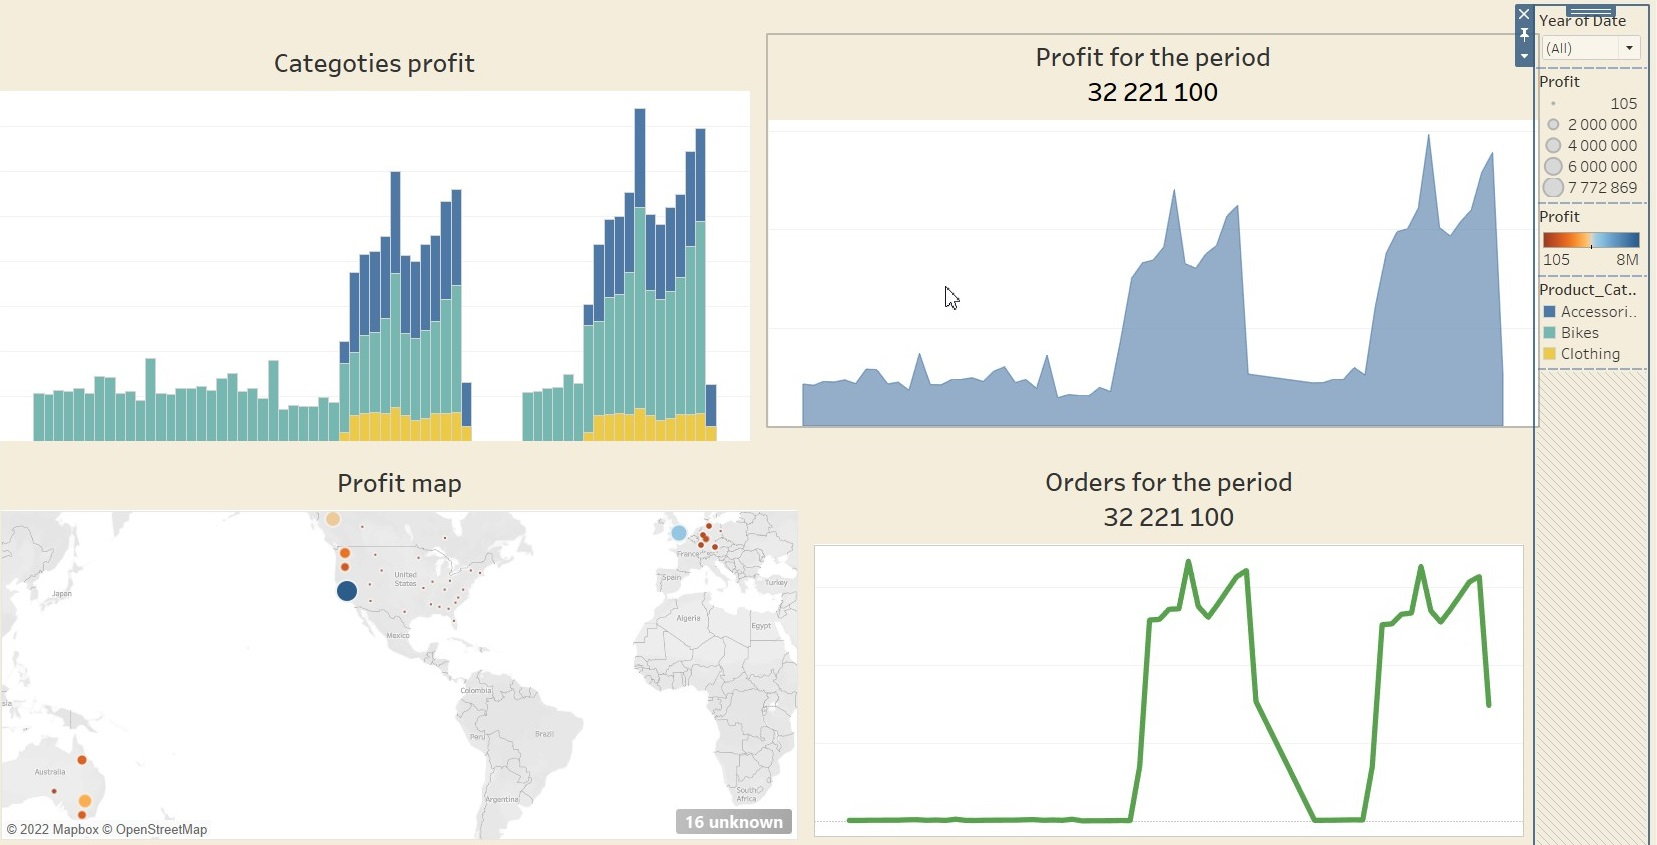

This screenshot's page, from the dashboard's own definition file:
{"tool":"tableau","page":{"name":"Final","canvas":[1000,1000],"units":"permille","ordinal":0},"visuals":[{"type":"filter","title":"Profit for the period","param":"[federated.1luun3l1xldv9518uf5wu11nxye0].[yr:Date:ok]","box":[927,9.3,68.2,70.9]},{"type":"worksheet","title":"Profit for the period","mark":"Area","rows":["Profit"],"cols":["Date"],"box":[464.1,43,464.7,454.1]},{"type":"worksheet","title":"Categoties profit","mark":"Bar","rows":["Profit"],"cols":["Date"],"box":[0,49.9,453.2,464.6]},{"type":"legend","title":"Map","param":"[federated.1luun3l1xldv9518uf5wu11nxye0].[sum:Profit:qk]","box":[927,80.1,68.2,156.8]},{"type":"legend","title":"Map","param":"[federated.1luun3l1xldv9518uf5wu11nxye0].[sum:Profit:qk]","box":[927,236.9,68.2,84.8]},{"type":"legend","title":"Categoties profit","param":"[federated.1luun3l1xldv9518uf5wu11nxye0].[none:Product_Category:nk]","box":[927,321.7,68.2,108]},{"type":"worksheet","title":"Orders for the period","mark":"Automatic","rows":["Order"],"cols":["Month","Date"],"box":[491.9,536.6,428.5,437.9]},{"type":"worksheet","title":"Map","mark":"Automatic","box":[1.2,537.8,481,440.2]}]}

Visuals, with their boxes on the dashboard's canvas, which has no fixed pixel size, in thousandths of its width and height (x1, y1, x2, y2). These are canvas units, not pixel positions in the 1657x845 screenshot, which may show the page scaled, cropped or inside an application window:
"Profit for the period" filter: 927/9/995/80
"Profit for the period" worksheet (Area marks): 464/43/929/497
"Categoties profit" worksheet (Bar marks): 0/50/453/514
"Map" legend: 927/80/995/237
"Map" legend: 927/237/995/322
"Categoties profit" legend: 927/322/995/430
"Orders for the period" worksheet: 492/537/920/974
"Map" worksheet: 1/538/482/978
